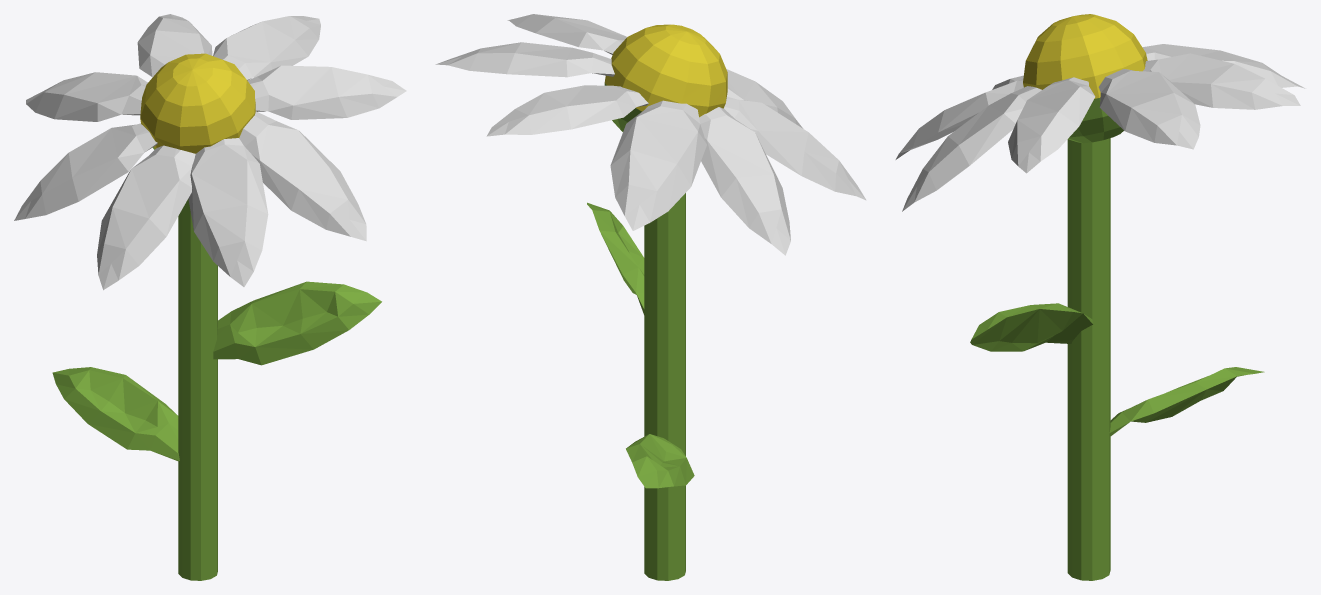
The model's file is daisy.gltf.
3 renders of one model, left to right at view 1: azimuth 30°, elevation 25°; view 2: azimuth 150°, elevation 25°; view 3: azimuth 270°, elevation 25°, orthographic. The views are drawn at different scales.
Parts seen in each view (by area): view 1: node_MeshObject1977485824-PolyPaper9; view 2: node_MeshObject1977485824-PolyPaper9; view 3: node_MeshObject1977485824-PolyPaper9.
Part boxes in pixels (bbox=[...]): node_MeshObject1977485824-PolyPaper9: bbox=[14, 14, 406, 580]; node_MeshObject1977485824-PolyPaper9: bbox=[435, 14, 866, 580]; node_MeshObject1977485824-PolyPaper9: bbox=[895, 14, 1305, 580].
Size of the model in its own units: 0.1886 by 0.282 by 0.1905.
